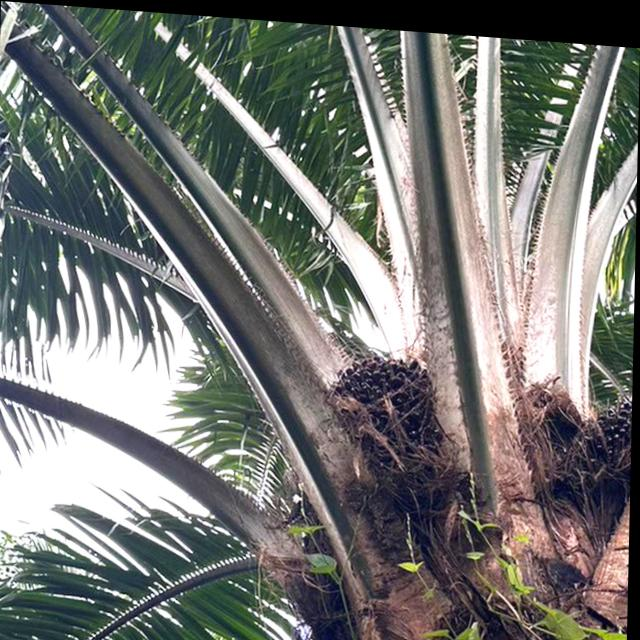ripe: (326, 329, 456, 451)
